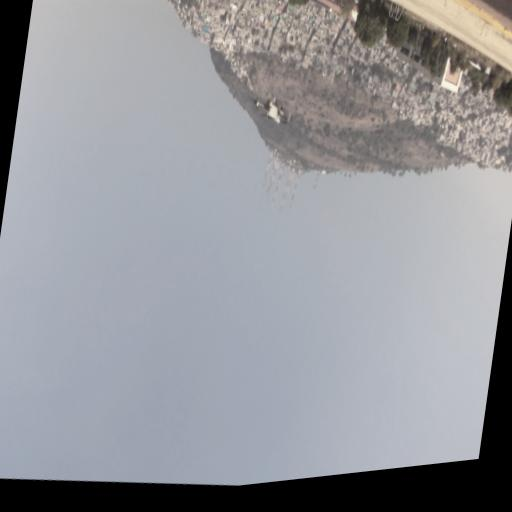drones: (246, 86, 296, 134)
